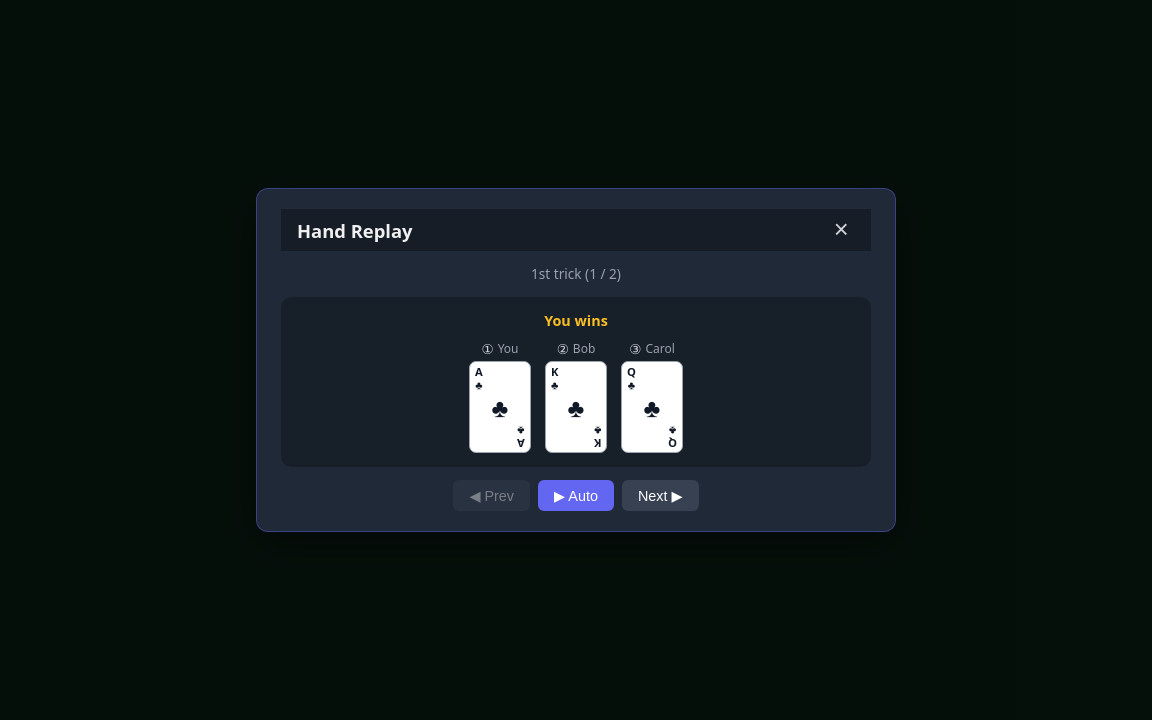
HandReplay › step backward returns to the previous trick
Step 1. Click the button with class "ctrl-btn" showing "Next ▶" → (660, 496), box [622,480,699,511]
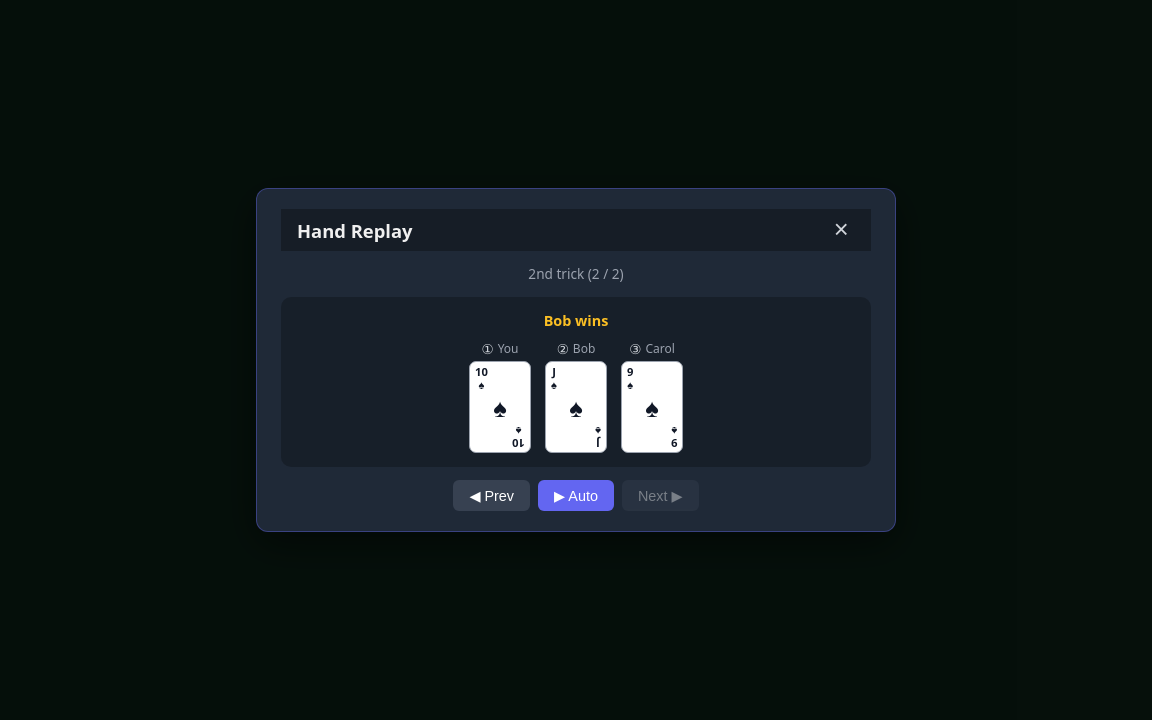
Step 2. Click the button with class "ctrl-btn" showing "◀ Prev" → (492, 496), box [453,480,530,511]
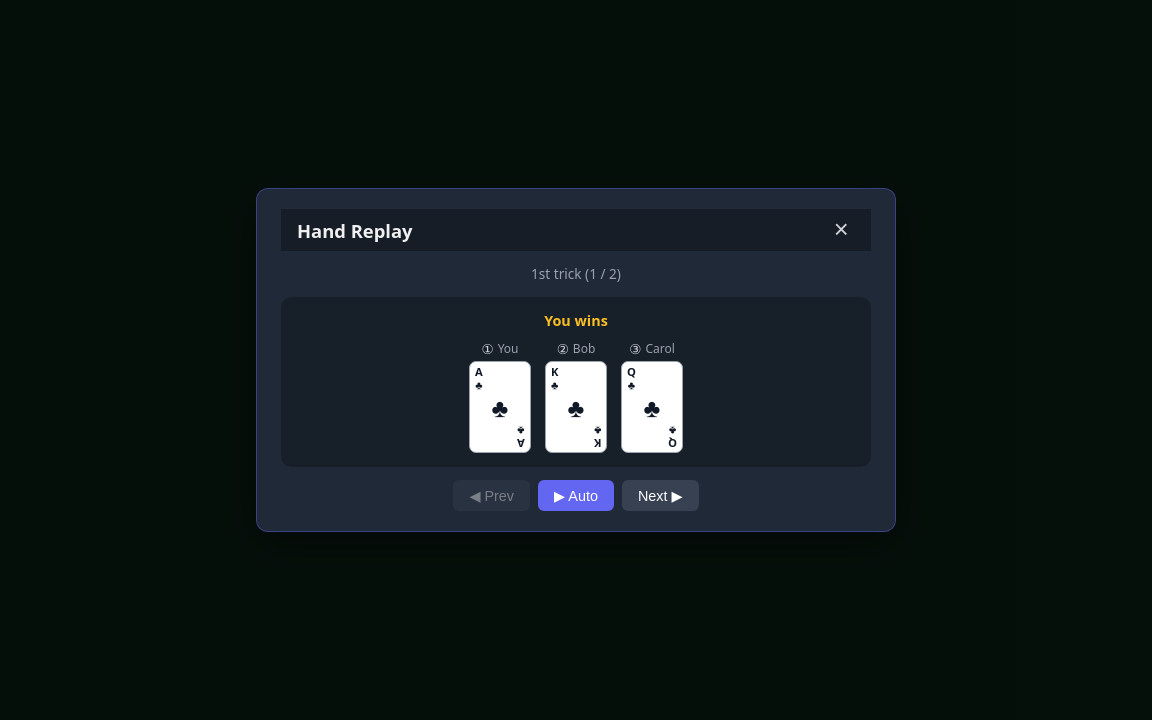
Check: the text "1st trick" is shown, box [531,264,621,283]
